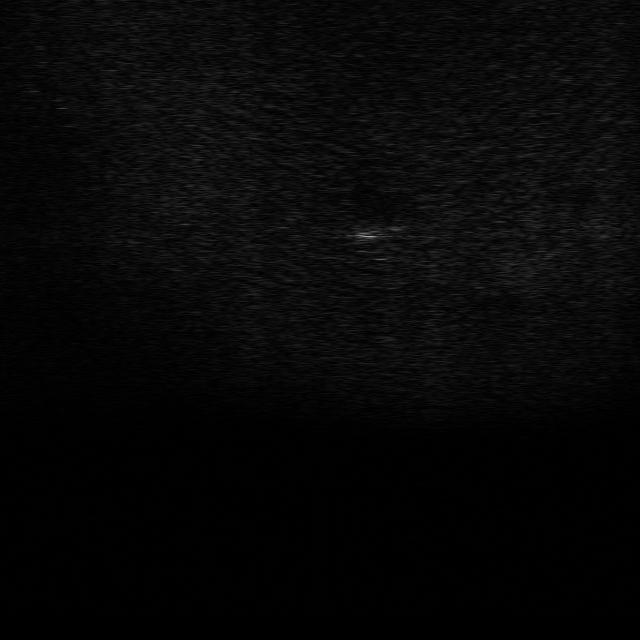plane: (348, 218, 412, 250)
